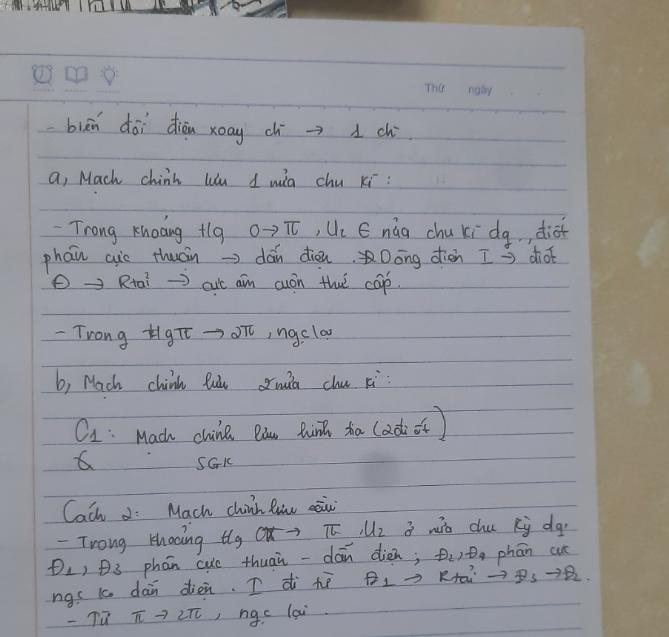text: (48, 562, 584, 612), (55, 509, 571, 560), (43, 538, 575, 582), (73, 401, 449, 458), (51, 213, 574, 252), (43, 239, 560, 276), (45, 107, 402, 148), (49, 266, 402, 300), (53, 366, 393, 399), (46, 165, 392, 197), (61, 491, 340, 528), (53, 319, 335, 354), (63, 600, 313, 632), (194, 452, 235, 475), (76, 449, 96, 474), (466, 81, 493, 98), (425, 81, 446, 95)
